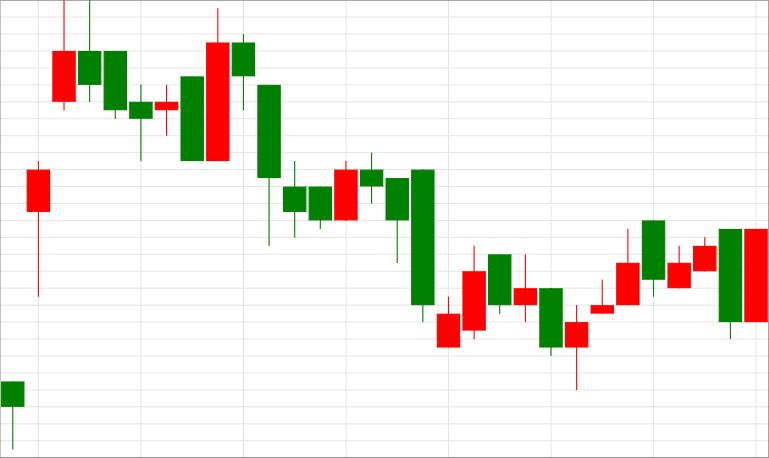bullish_engulfing_rise: (78, 1, 230, 161)
